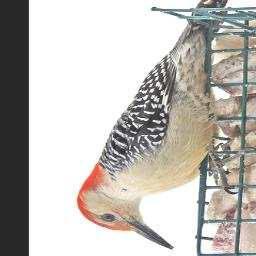Woodpecker: (77, 0, 240, 254)
